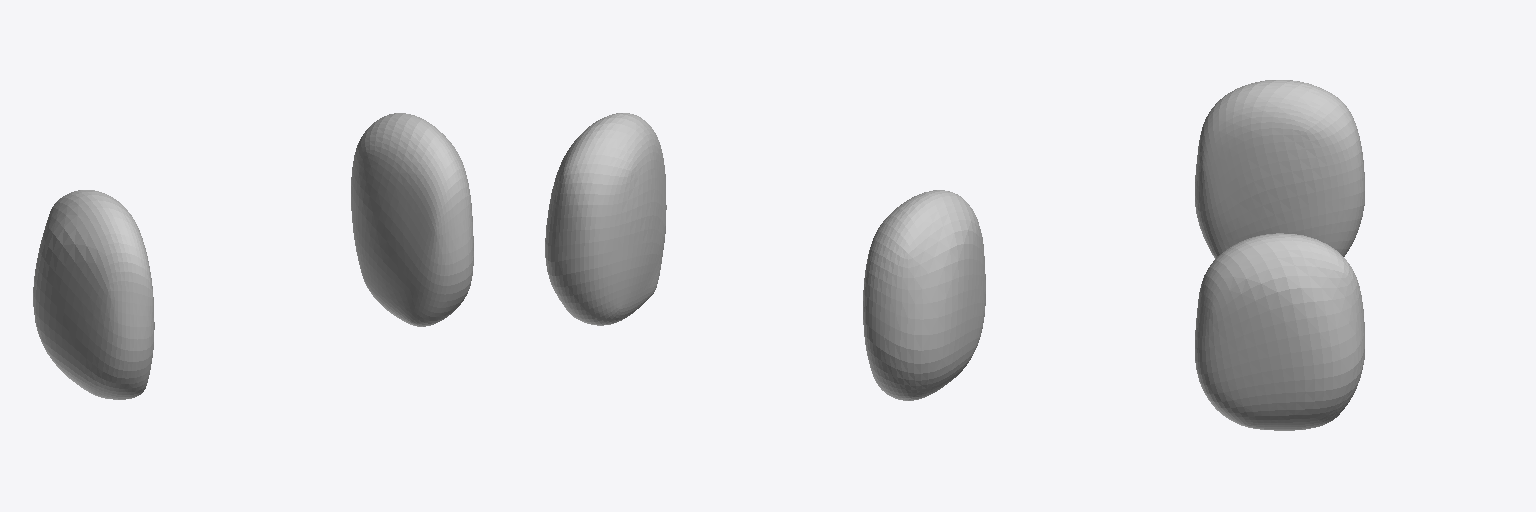
Rendered from LowerThighPads.OBJ.
3 renders of one model, left to right at view 1: azimuth 30°, elevation 25°; view 2: azimuth 150°, elevation 25°; view 3: azimuth 270°, elevation 25°, orthographic.
Parts seen in each view (by area): view 1: Group13; view 2: Group13; view 3: Group13.
Boxes of the visible parts, x1=… form: Group13: x1=33, y1=113, x2=473, y2=399; Group13: x1=545, y1=113, x2=985, y2=400; Group13: x1=1195, y1=80, x2=1364, y2=430.
Bounding box in the file's own units: 50.55 × 23.33 × 18.66.